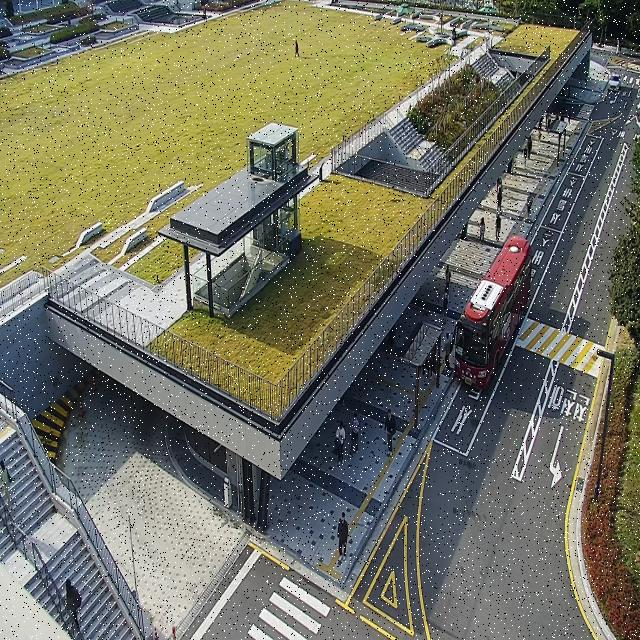queue: (415, 325, 442, 431)
